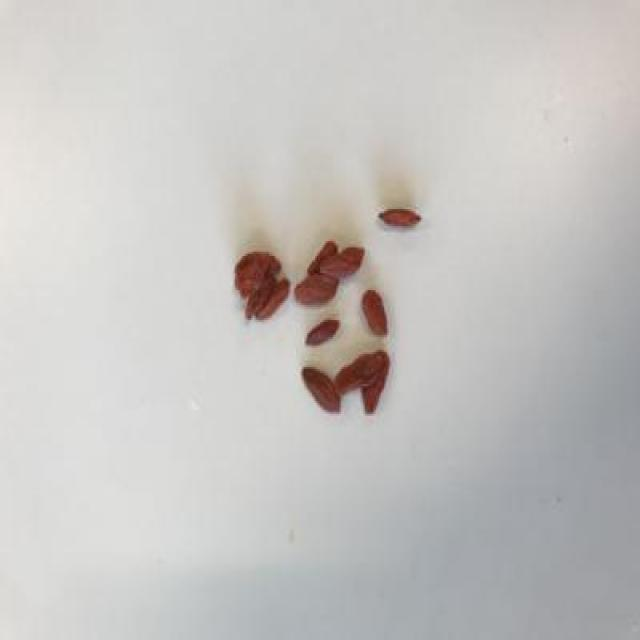compost: (213, 150, 466, 455)
